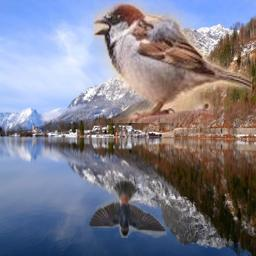Sparrow: (93, 1, 252, 123)
Swallow: (88, 180, 169, 238)
